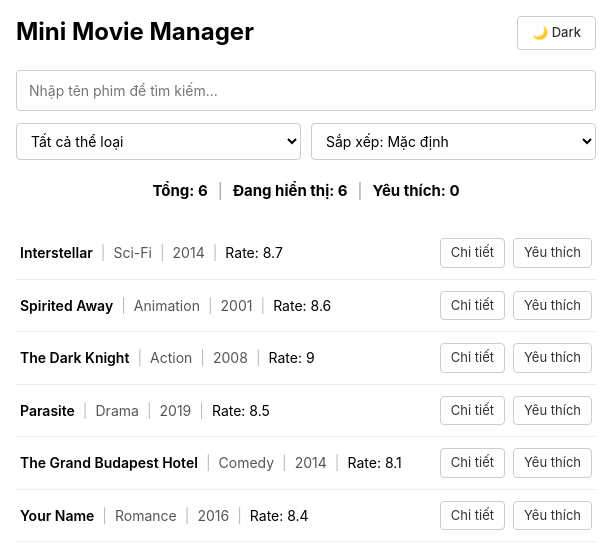
Scenario: Mini Movie Manager App › adds and removes movie from favorites
Note: Click to add first movie to favorites
Step 1. Click the button "Yêu thích" in the row of "8.7" → coordinates (552, 253), box [513, 238, 592, 268]
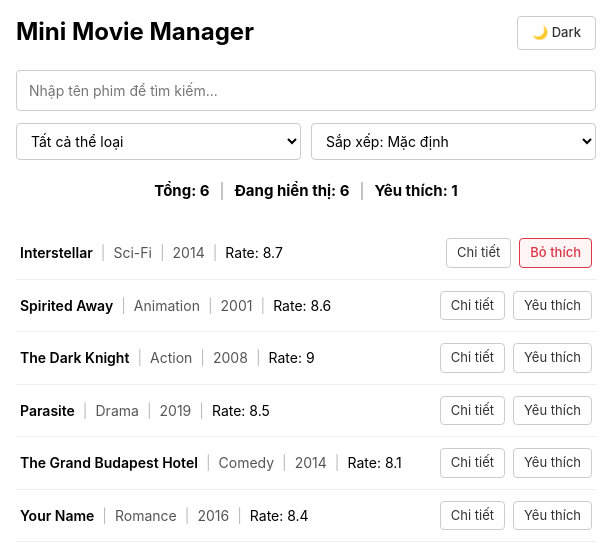
expect the button "Bỏ thích" is shown: met
Note: Click "Bỏ thích" to remove
Step 2. Click the button "Bỏ thích" → coordinates (556, 253), box [519, 238, 592, 268]
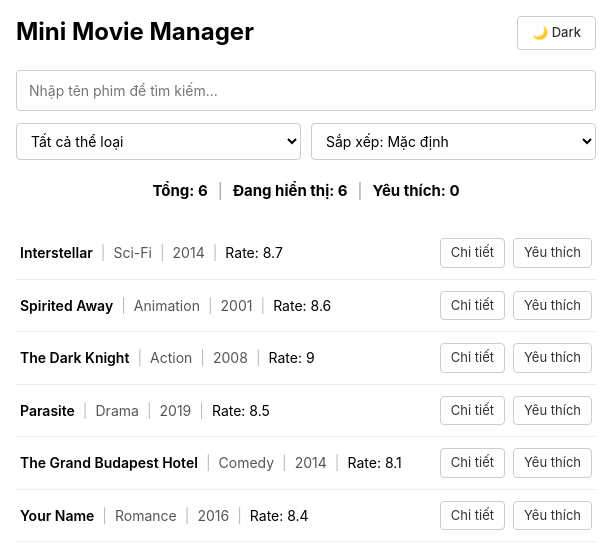
expect the button "Bỏ thích" is gone: met
